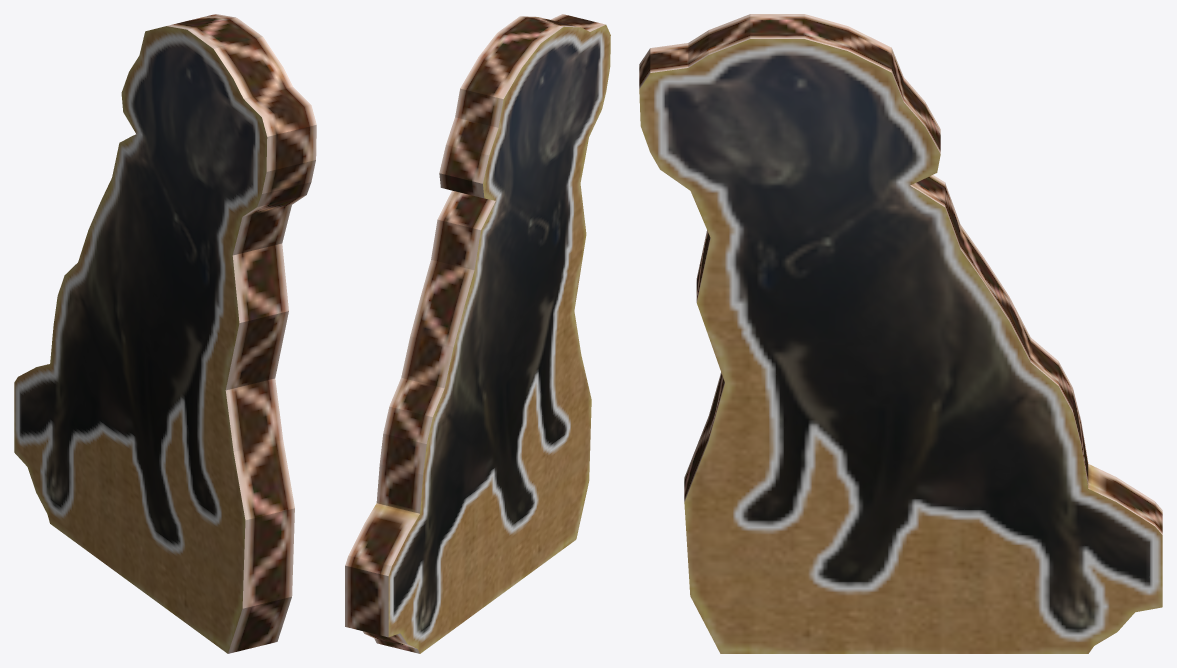
The model's file is Mudflap.fbx.
3 renders of one model, left to right at view 1: azimuth 30°, elevation 25°; view 2: azimuth 150°, elevation 25°; view 3: azimuth 270°, elevation 25°, orthographic. The views are drawn at different scales.
Visible parts, largest first — view 1: Flappers; view 2: Flappers; view 3: Flappers.
Part boxes in pixels (x1,y1,x2,y2): Flappers: (14,14,316,653); Flappers: (345,14,610,653); Flappers: (639,14,1162,653).
Bounding box in the file's own units: 5 × 57.32 × 44.21.
1 material, 1 textured.
